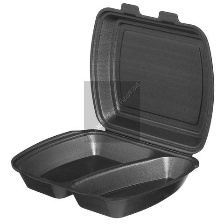foam_box: (6, 0, 221, 223)
